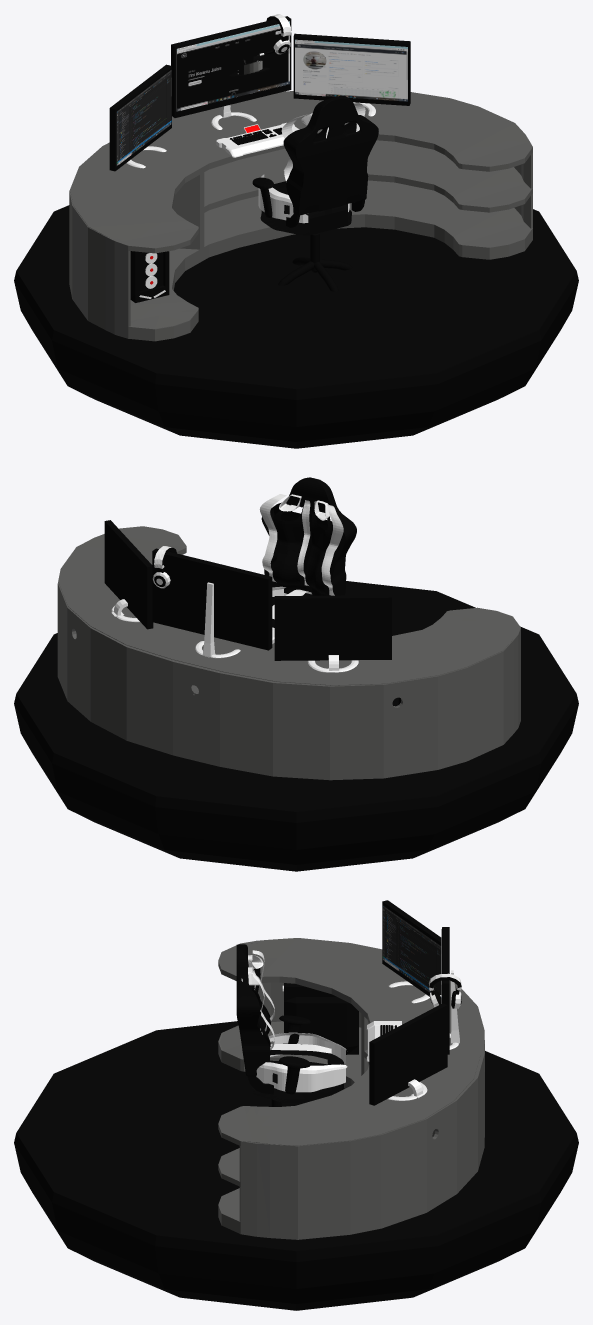
Rendered from Sketchfab_Scene.gltf.
The picture shows the model from 3 angles, top to bottom: view 1: azimuth 30°, elevation 25°; view 2: azimuth 150°, elevation 25°; view 3: azimuth 270°, elevation 25°; orthographic projection.
Visible parts, largest first — view 1: Floor-material, Desk_Wood1-material, Mat007-material, Black-material, Middle_Scn-material, Mouse1-material (×4), Left_Scn-material, Right_Scn-material, Green-material, Gray-material; view 2: Desk_Wood1-material, Mat007-material, Floor-material, Mouse1-material (×3), Black-material, Green-material, Gray-material; view 3: Floor-material, Desk_Wood1-material, Mat007-material, Mouse1-material (×4), Black-material, Green-material, Right_Scn-material.
Boxes of the visible parts, x1,y1,x2,y2 form: Floor-material: (16, 205, 576, 389); Desk_Wood1-material: (69, 91, 532, 341); Mat007-material: (14, 271, 578, 448); Black-material: (252, 96, 378, 291); Middle_Scn-material: (177, 21, 289, 111); Mouse1-material (×4): (109, 16, 410, 302); Left_Scn-material: (295, 39, 407, 101); Right_Scn-material: (116, 70, 171, 165); Green-material: (258, 102, 365, 223); Gray-material: (216, 122, 299, 157); Desk_Wood1-material: (57, 526, 520, 780); Mat007-material: (14, 694, 578, 871); Floor-material: (16, 581, 576, 811); Mouse1-material (×3): (104, 520, 391, 660); Black-material: (261, 477, 356, 627); Green-material: (259, 494, 343, 619); Gray-material: (195, 582, 240, 658); Floor-material: (16, 1021, 576, 1251); Desk_Wood1-material: (218, 938, 484, 1239); Mat007-material: (14, 1133, 578, 1310); Mouse1-material (×4): (284, 900, 449, 1105); Black-material: (236, 944, 343, 1106); Green-material: (241, 950, 347, 1092); Right_Scn-material: (382, 905, 441, 997).
Size of the model in its own units: 31.24 by 16.49 by 31.24.
16 materials, 3 textured.
